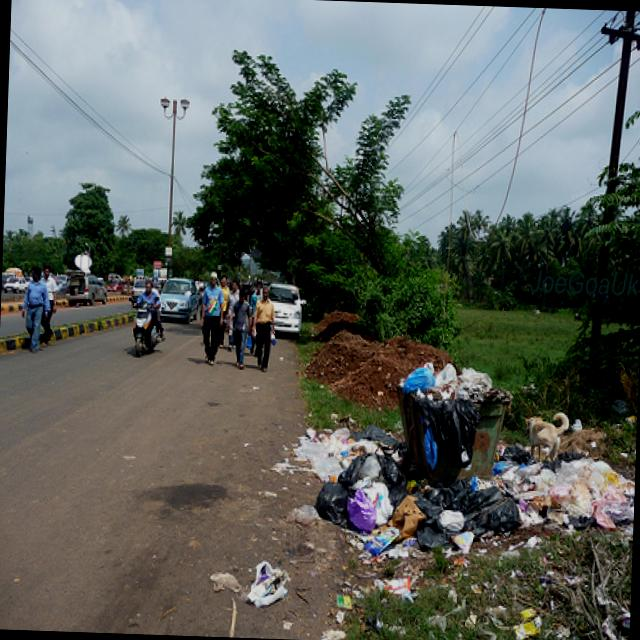garbage: (302, 348, 639, 586)
